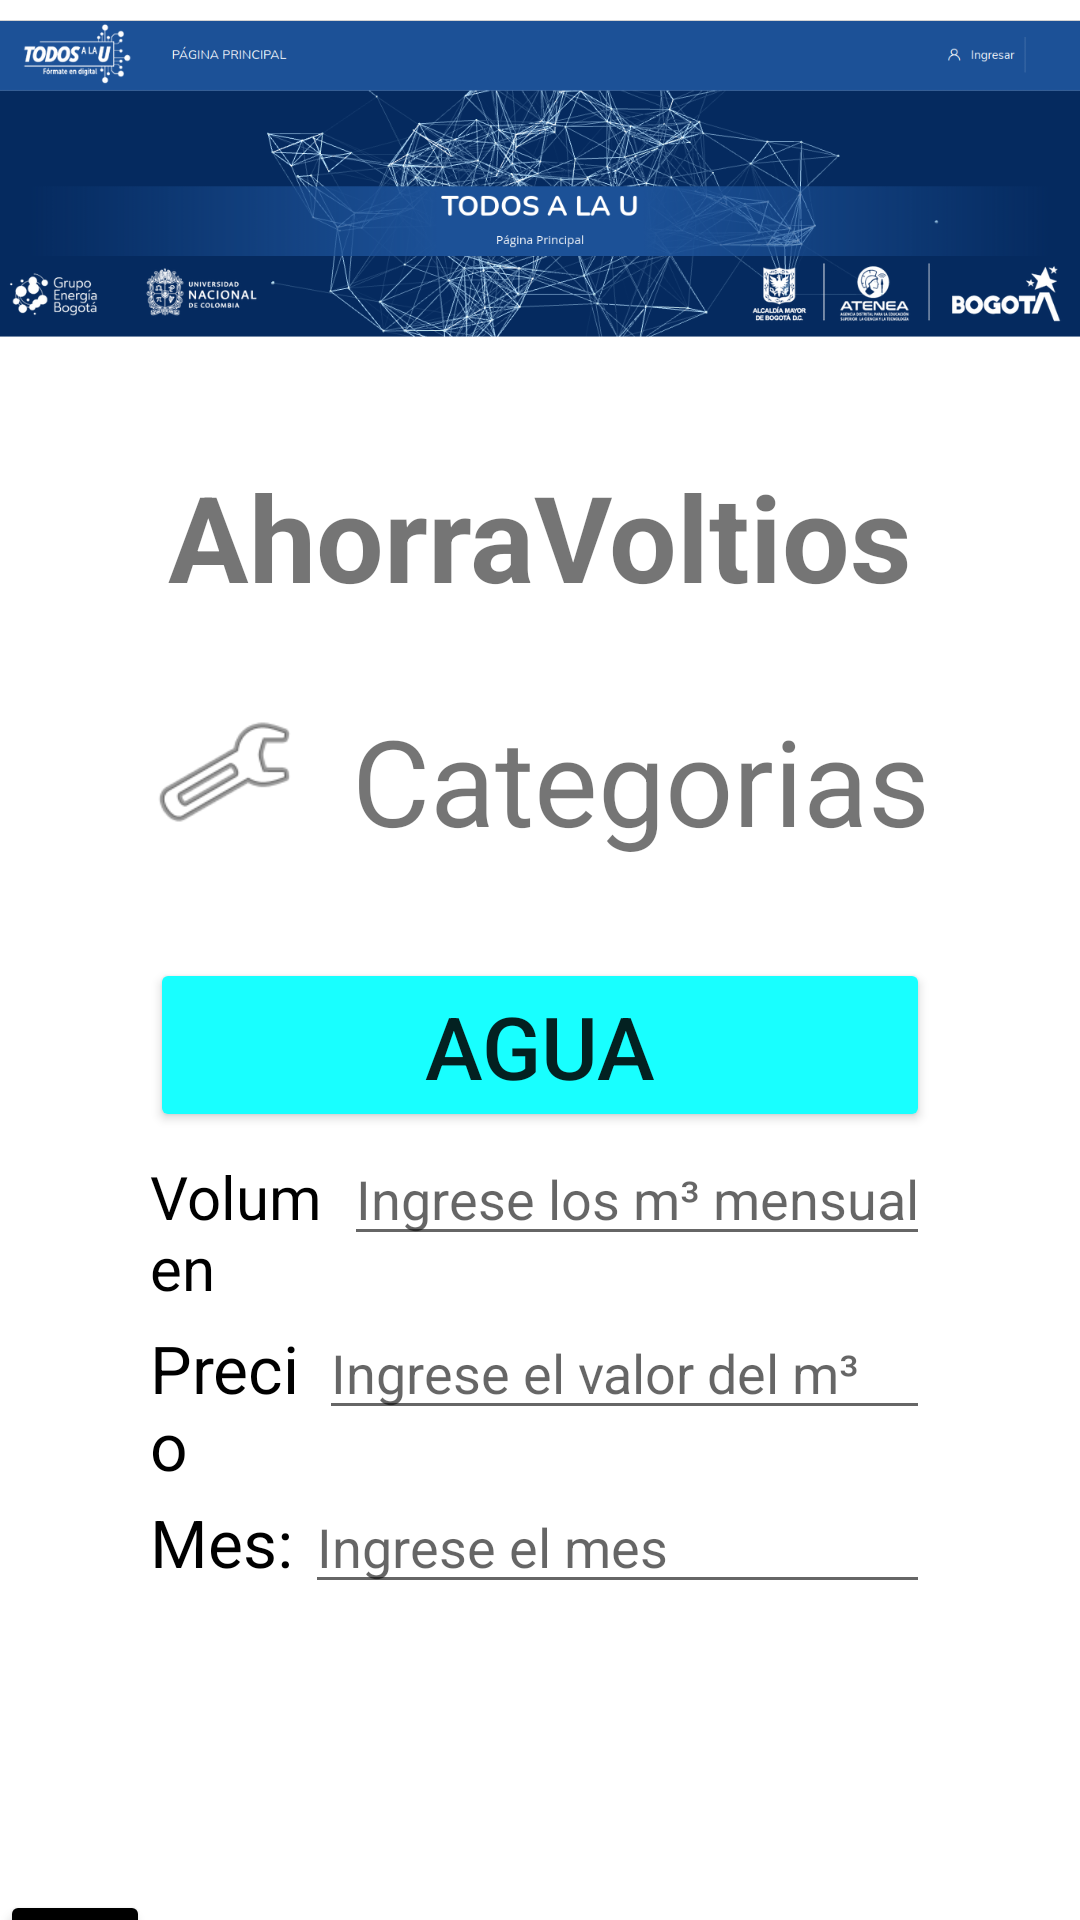

Named icons in this screenshot (1080 x 1920) and their bounding boxes, (x1, y1, x2, y2):
manage: (159, 722, 289, 822)
